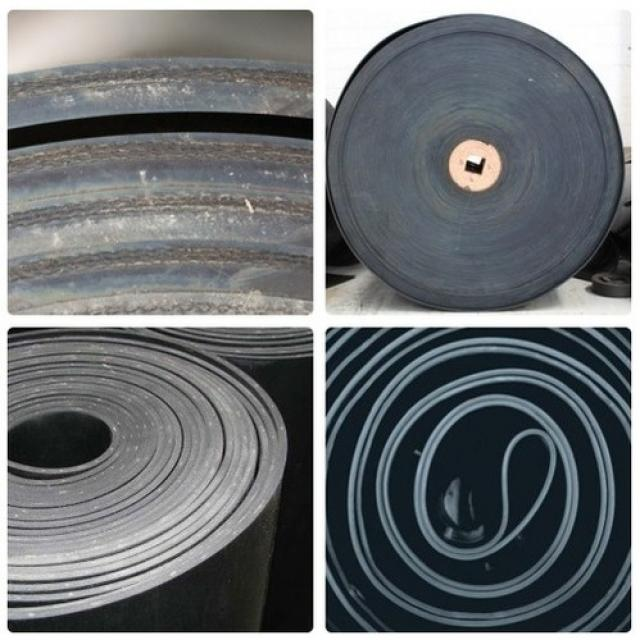convoyeur: (328, 11, 632, 309), (329, 336, 626, 624), (11, 333, 288, 631), (18, 49, 310, 309)
